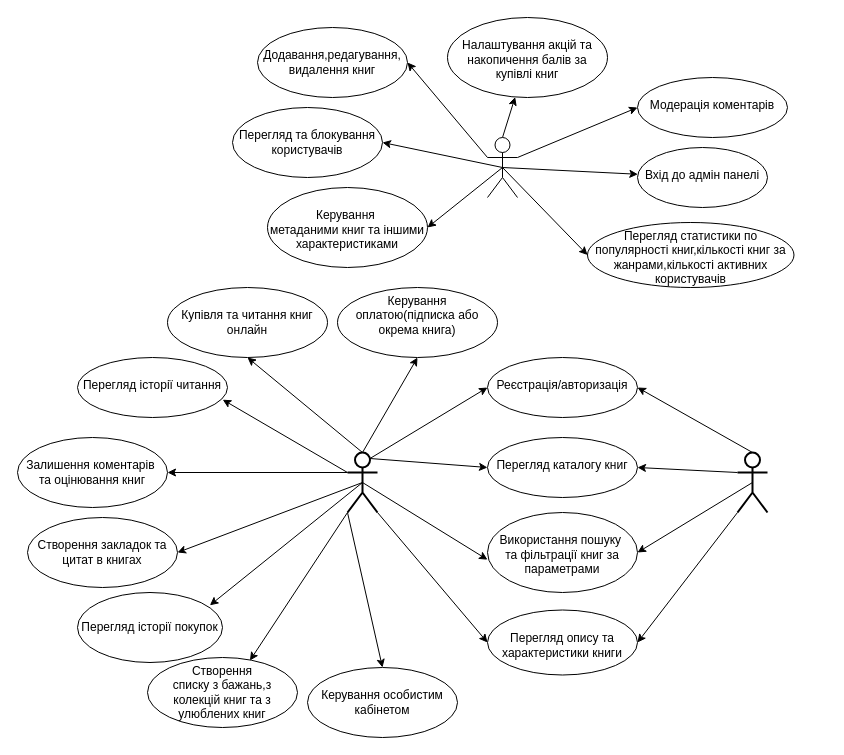
Image size: 844x755. Some labels were removed from this diagram. Each missing label, with the centre of its shape:
Адміністратор: the point at 502,167
Гість(незареєстрований): the point at 752,482
Користувач зареєстрований: the point at 362,482
